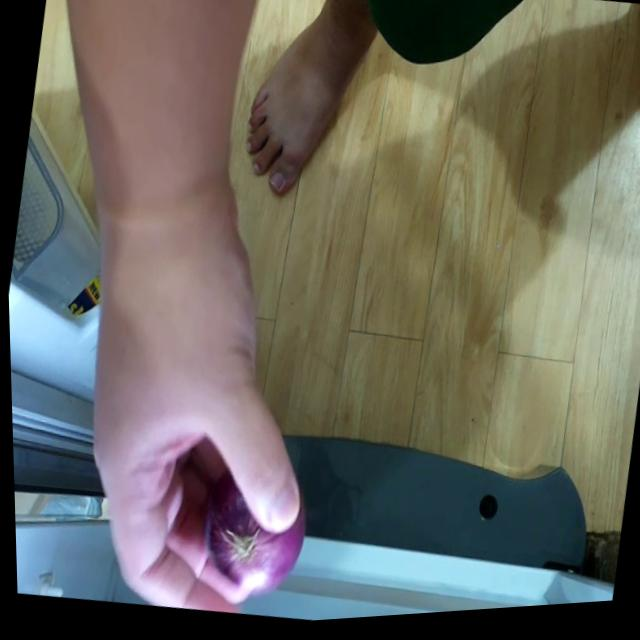onion: (186, 473, 313, 614)
